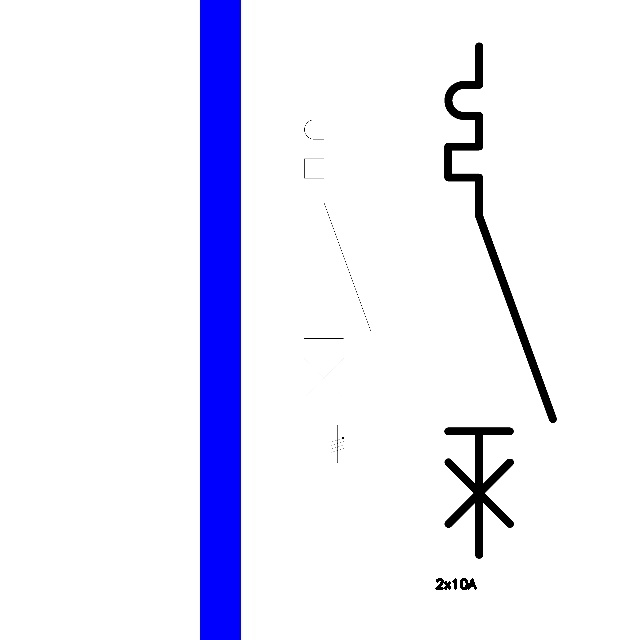interruptor_termomagnetico: (435, 33, 566, 568), (296, 87, 378, 425)
